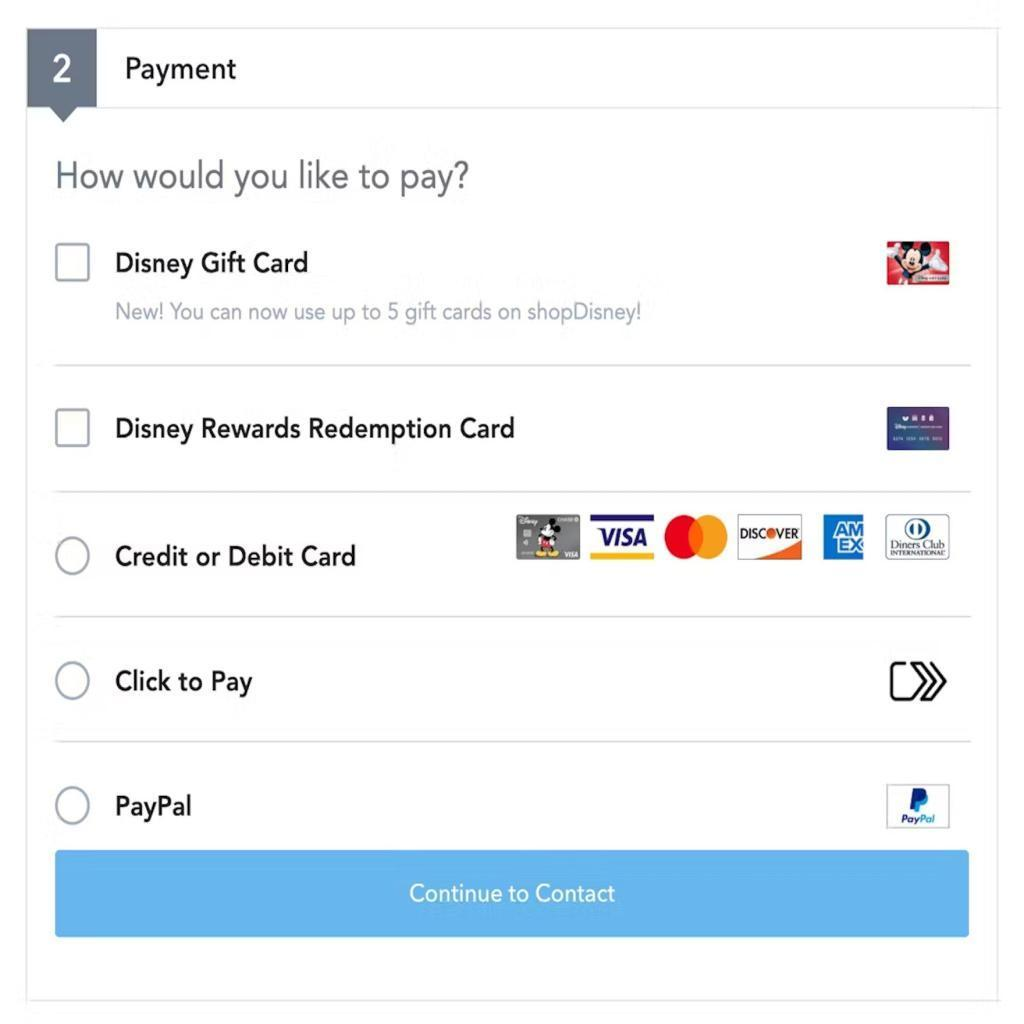button: (60, 850, 972, 939)
checkbox: (56, 242, 94, 286), (55, 409, 92, 450)
radio: (54, 534, 95, 577), (56, 784, 94, 829), (54, 662, 95, 703)
